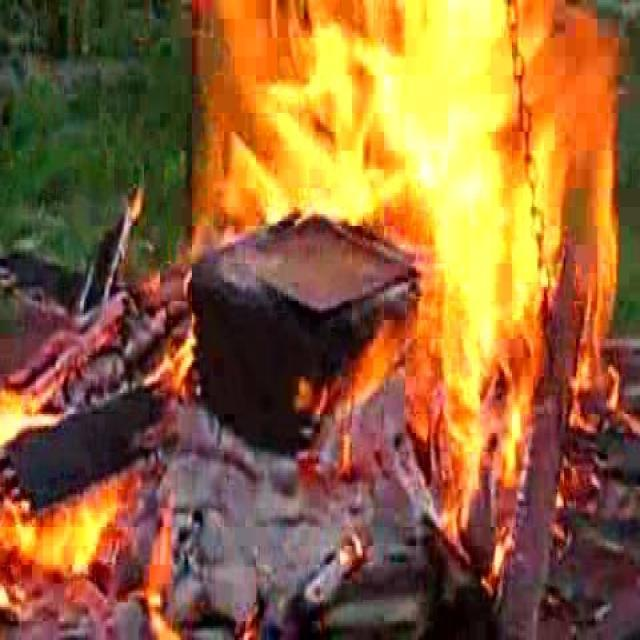Fire: (170, 1, 621, 578), (0, 385, 133, 639)
